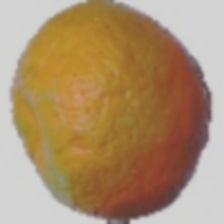tangerine: (20, 24, 165, 224)
